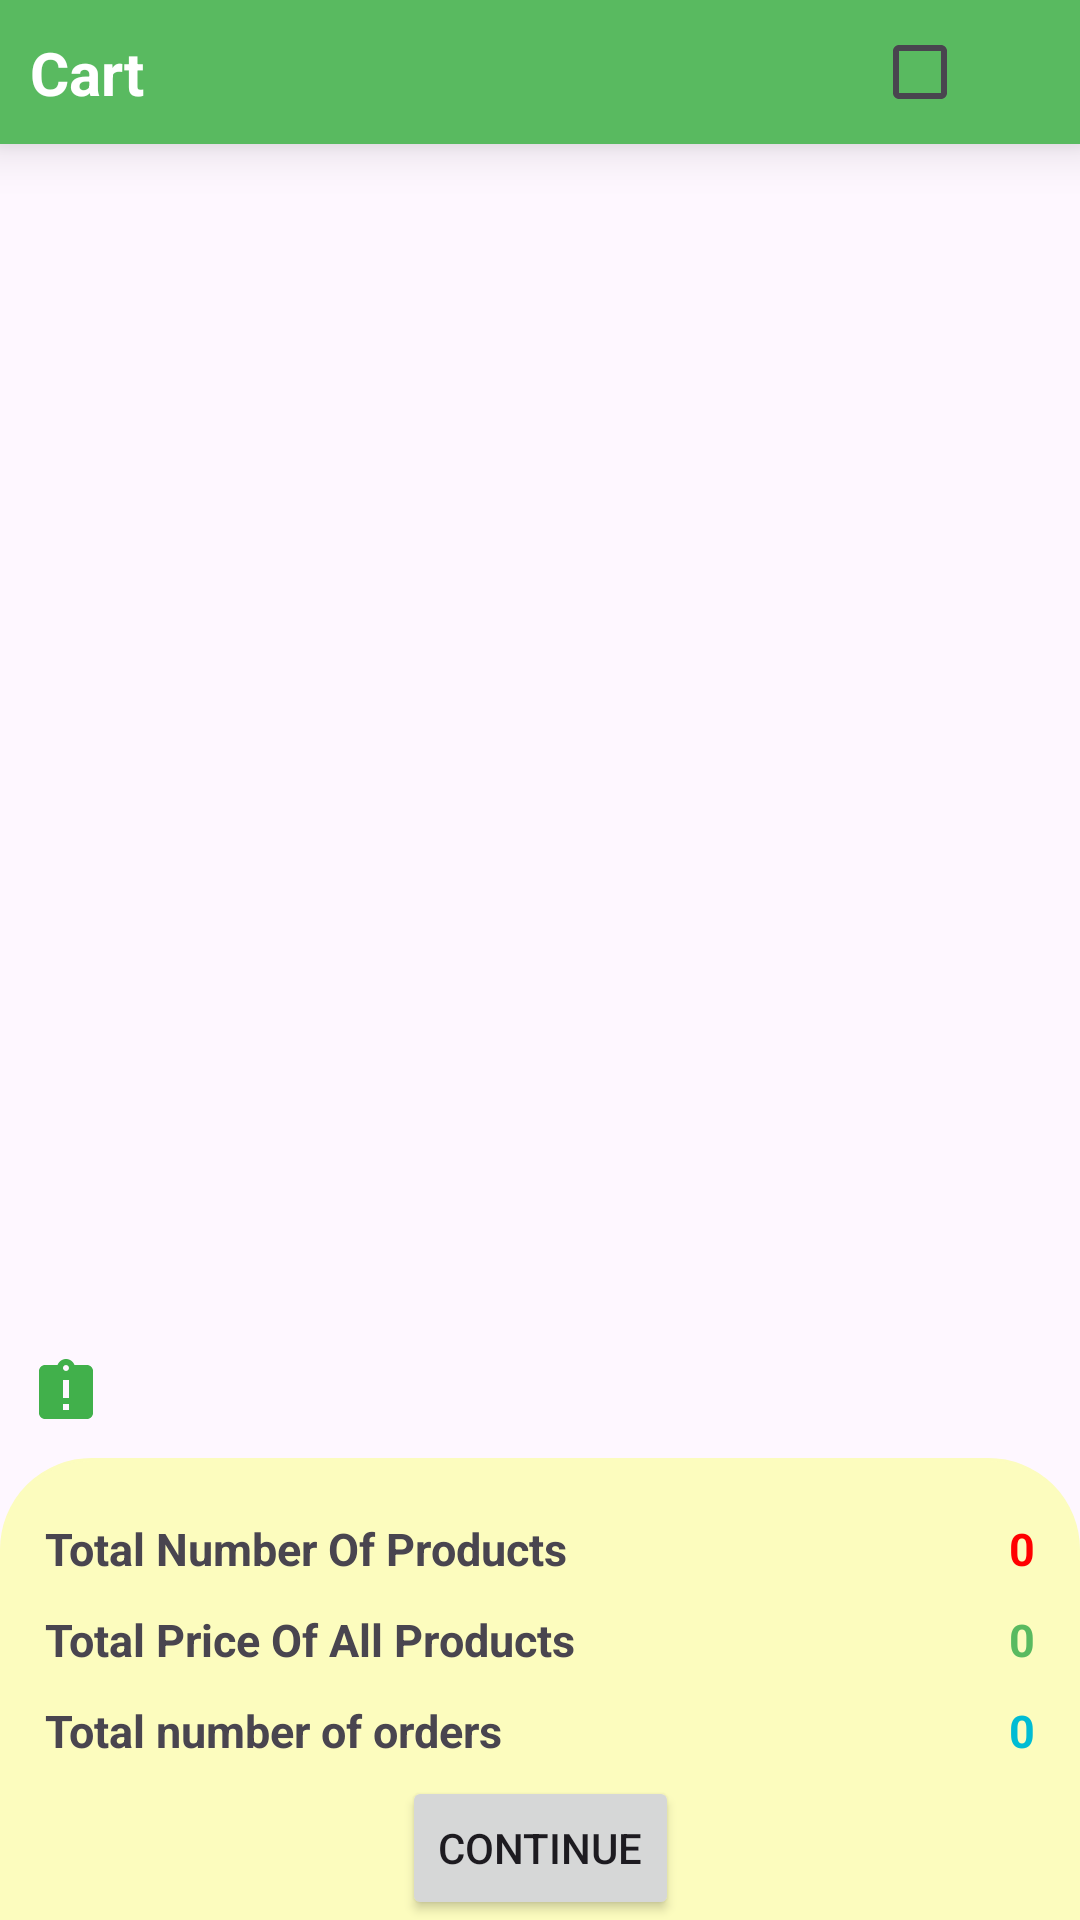

Named icons in this screenshot (1080w x 1920h) and their centers, point (x, y):
assignment late: point (66, 1389)
